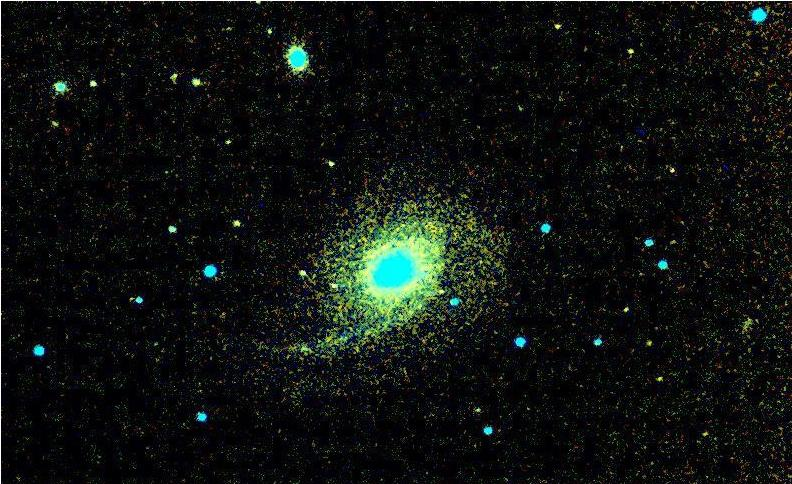star: (687, 424, 717, 454)
